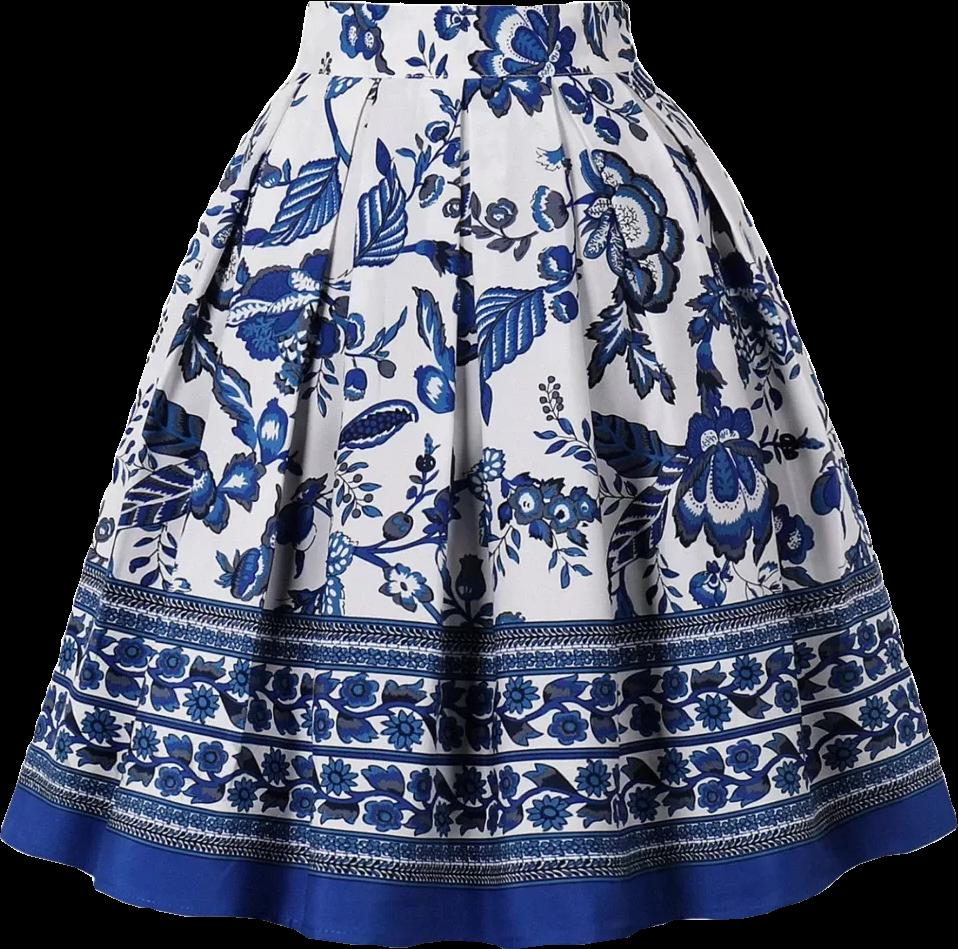Hemline: (0, 820, 957, 948)
Waistline: (283, 60, 658, 85), (299, 0, 639, 12)
